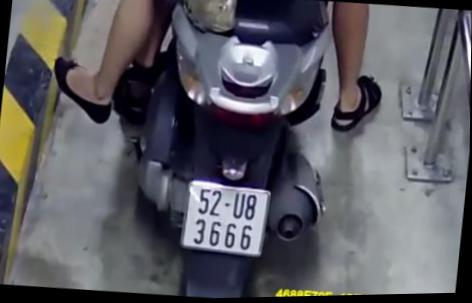LP: (181, 178, 272, 260)
